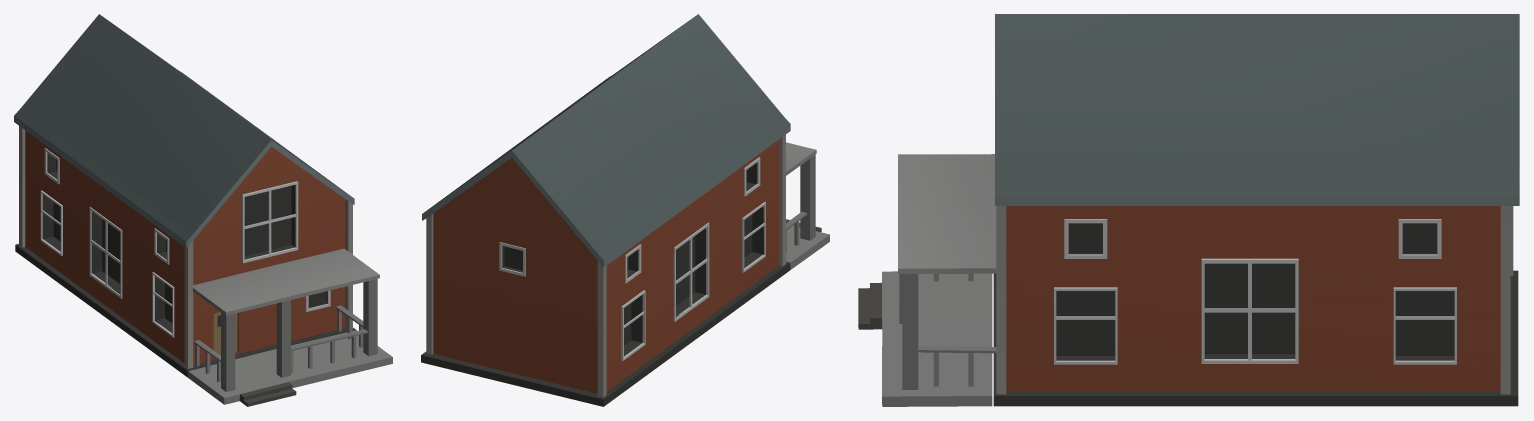
Rendered from home3.fbx.
3 renders of one model, left to right at view 1: azimuth 30°, elevation 25°; view 2: azimuth 150°, elevation 25°; view 3: azimuth 270°, elevation 25°, orthographic. The views are drawn at different scales.
Visible parts, largest first — view 1: Cube.106; view 2: Cube.106; view 3: Cube.106.
Part boxes in pixels (bbox=[...]): Cube.106: bbox=[14, 14, 392, 406]; Cube.106: bbox=[421, 14, 829, 406]; Cube.106: bbox=[858, 14, 1519, 406].
Size of the model in its own units: 13.54 by 16.59 by 30.07.
